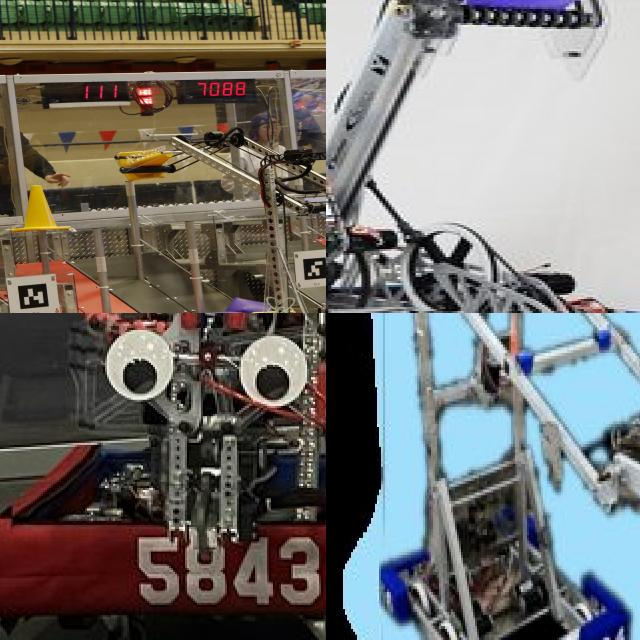FRC-Robots: (0, 313, 326, 633), (326, 0, 640, 313), (391, 313, 640, 640), (64, 124, 326, 313)
